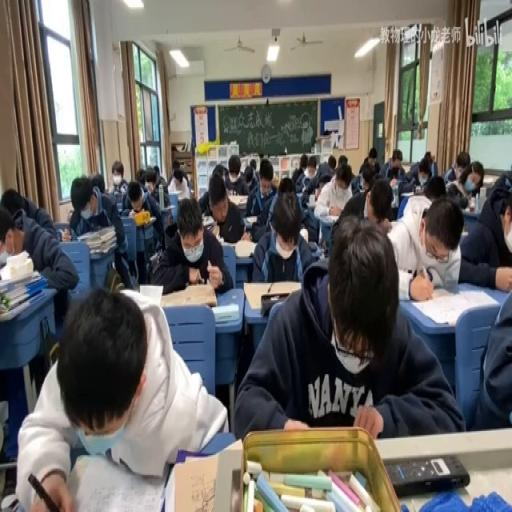calculator: (406, 286, 496, 328), (171, 453, 222, 512), (242, 280, 300, 309), (158, 282, 215, 308), (0, 268, 39, 292), (212, 302, 238, 324), (138, 283, 163, 304), (234, 238, 256, 258), (309, 240, 325, 262), (133, 213, 155, 226), (227, 194, 247, 206), (202, 216, 215, 232), (114, 196, 123, 214), (298, 225, 308, 240), (322, 213, 338, 222), (462, 206, 478, 215), (243, 214, 257, 224), (149, 250, 159, 264), (160, 202, 173, 212), (306, 196, 316, 208), (482, 175, 496, 183), (400, 190, 413, 198), (461, 225, 467, 233)
paper: (234, 216, 454, 441), (18, 282, 226, 508), (0, 198, 77, 330), (150, 195, 230, 294), (68, 175, 131, 291), (458, 169, 512, 289), (250, 192, 318, 284), (338, 170, 383, 224), (198, 164, 228, 218), (398, 151, 433, 192), (243, 164, 269, 219), (223, 155, 250, 196), (166, 162, 192, 202), (143, 164, 168, 204), (443, 151, 471, 185), (0, 189, 26, 223), (107, 158, 128, 195), (379, 148, 402, 179), (361, 147, 381, 179), (491, 172, 512, 202), (446, 182, 468, 208), (424, 175, 446, 200), (290, 152, 306, 186), (470, 164, 483, 189), (276, 176, 294, 194), (89, 171, 104, 192), (128, 190, 142, 210), (306, 155, 316, 176), (136, 166, 146, 184), (327, 154, 337, 170), (302, 184, 312, 199), (338, 155, 347, 171), (318, 180, 328, 194), (249, 156, 256, 170), (272, 175, 278, 188), (173, 168, 179, 179), (246, 175, 252, 186), (430, 152, 435, 159)
person: (386, 454, 470, 496), (0, 461, 18, 512)
